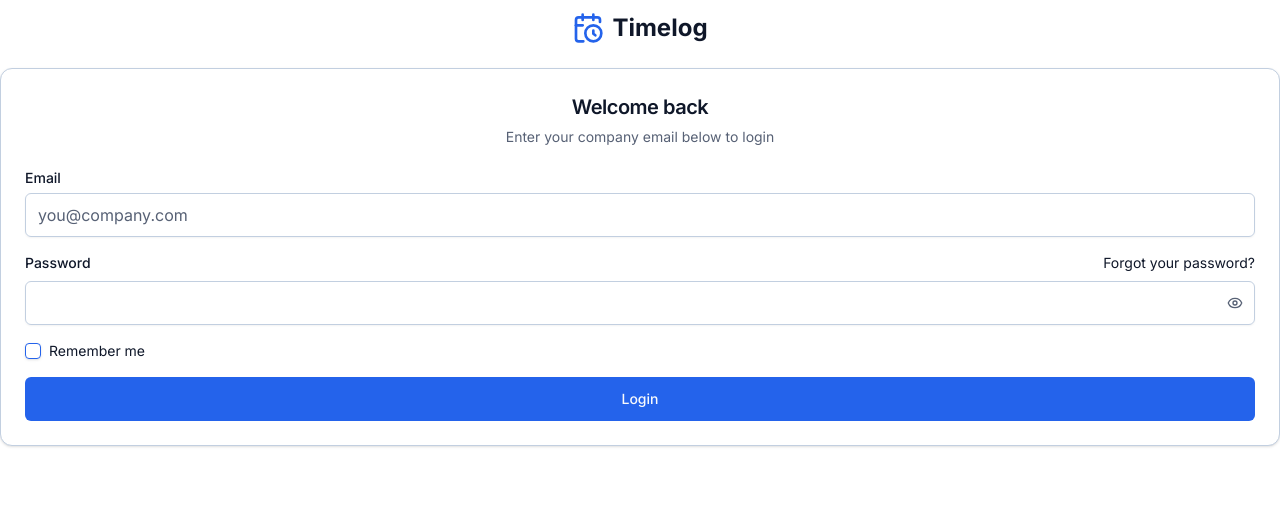
LoginForm › form submission › should show error message on failed login
Type "user@company.com" into the field labelled "Email" at (640,215), box [25,193,1255,237]
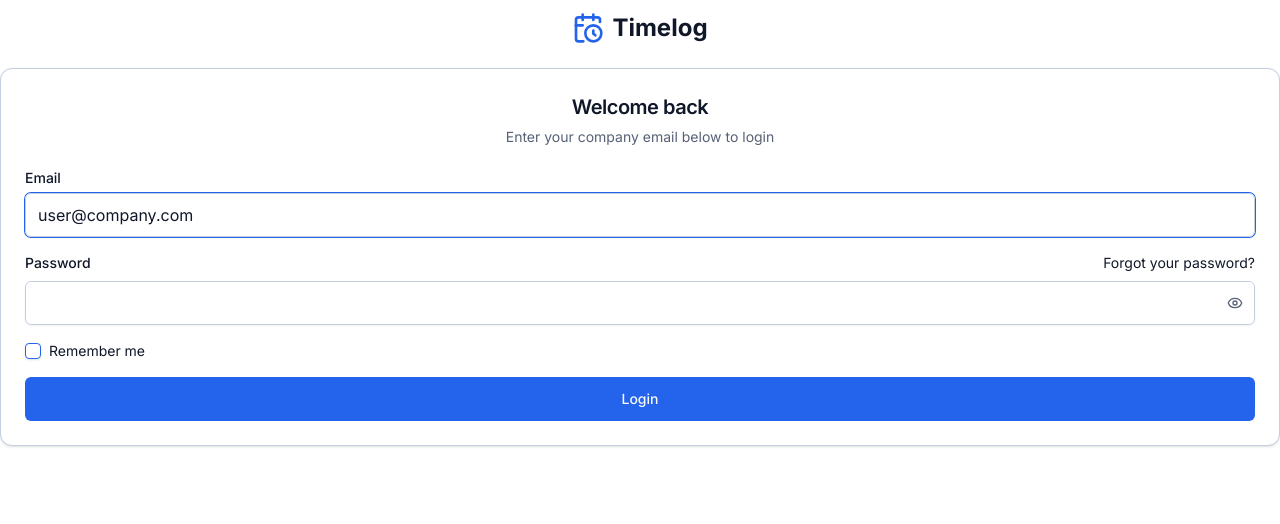
Type "wrongpassword" into the password field labelled "Password" at (640,303), box [25,281,1255,325]
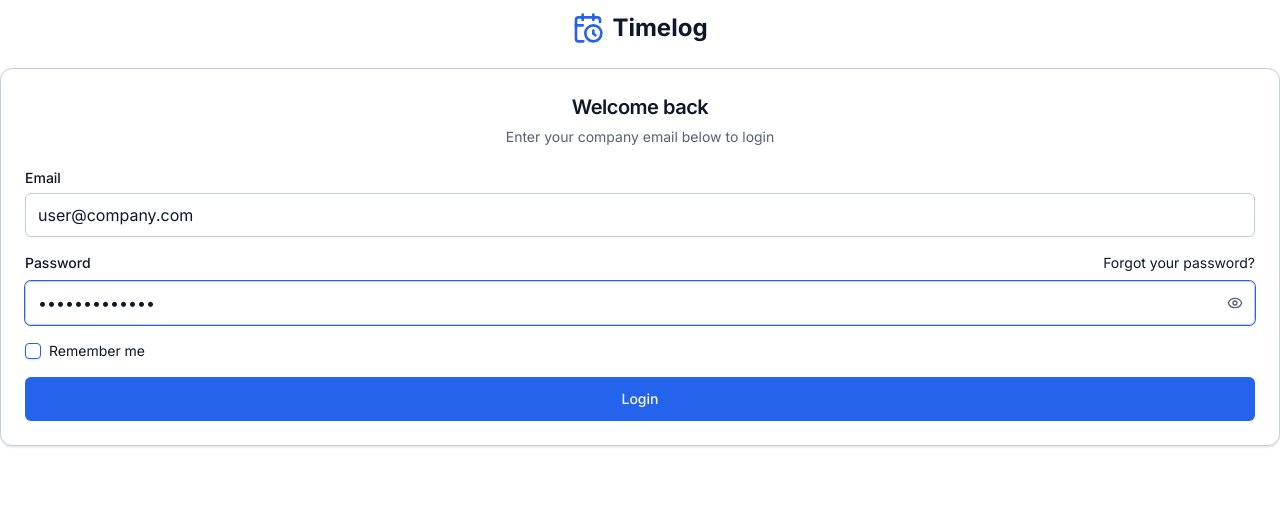
Click the button "Login" at (640,399), box [25,377,1255,421]
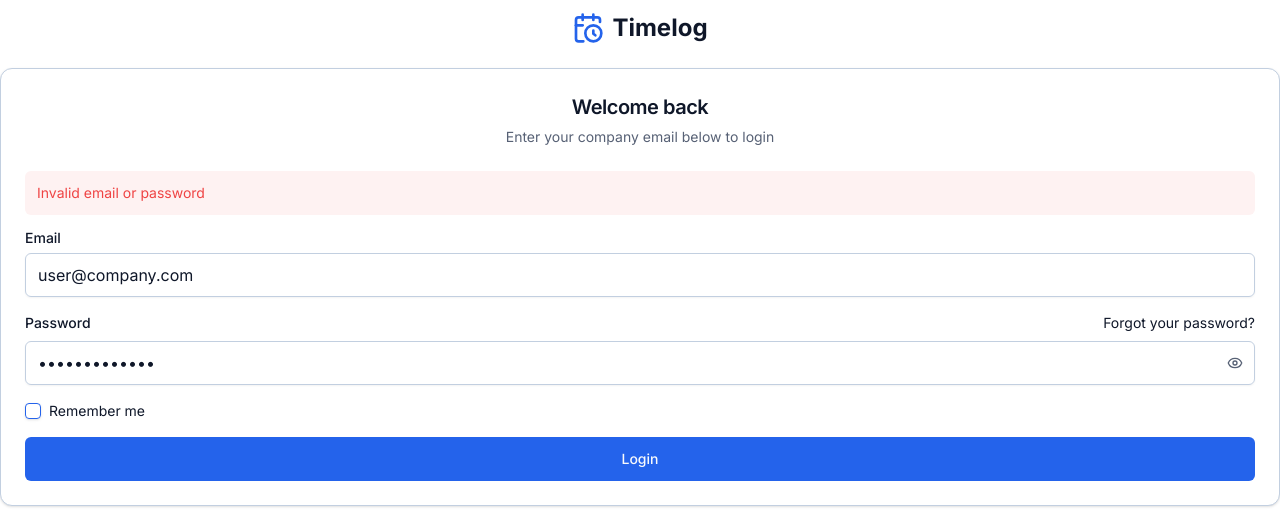
Result: the text "Invalid email or password" is shown at [25,171,1255,215]
